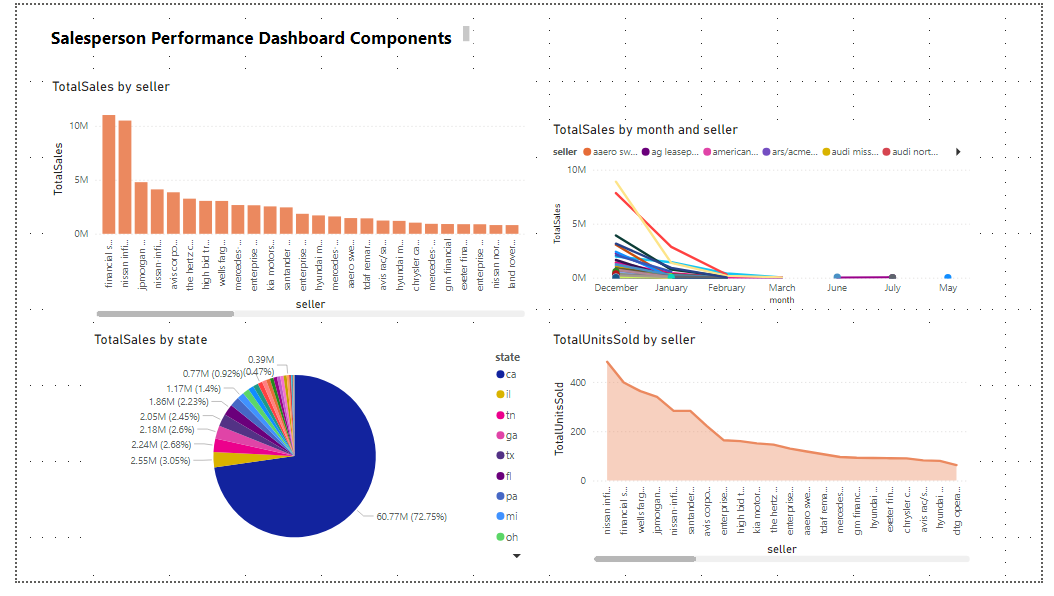

What the dashboard file says about the page in this screenshot:
{"tool":"powerbi","page":{"name":"Page 2","canvas":[1280,720],"ordinal":1},"visuals":[{"type":"textbox","box":[17.5,21.2,552.5,38.8],"z":0},{"type":"clusteredColumnChart","fields":{"Category":["dim_salesman.seller"],"Y":["fact_sales.TotalSales"]},"box":[38.8,91.2,601.2,303.8],"z":2},{"type":"lineChart","fields":{"Series":["dim_salesman.seller"],"Category":["fact_sales.month"],"Y":["fact_sales.TotalSales"]},"box":[665,145,531.2,235],"z":3},{"type":"pieChart","fields":{"Category":["fact_sales.state"],"Y":["fact_sales.TotalSales"]},"box":[91.2,407.5,562.5,293.8],"z":4},{"type":"stackedAreaChart","fields":{"Category":["dim_salesman.seller"],"Y":["fact_sales.TotalUnitsSold"]},"box":[665,408,531,294],"z":5}]}

Visuals, with their boxes in screenshot pixels (x1, y1, x2, y2), scaled from the page's 1280x720 canvas onto the 1054x596 screenshot:
textbox: [x1=14, y1=18, x2=469, y2=50]
clusteredColumnChart - dim_salesman.seller x fact_sales.TotalSales: [x1=32, y1=75, x2=527, y2=327]
lineChart - dim_salesman.seller x fact_sales.month: [x1=548, y1=120, x2=985, y2=315]
pieChart - fact_sales.state x fact_sales.TotalSales: [x1=75, y1=337, x2=538, y2=581]
stackedAreaChart - dim_salesman.seller x fact_sales.TotalUnitsSold: [x1=548, y1=338, x2=985, y2=581]
